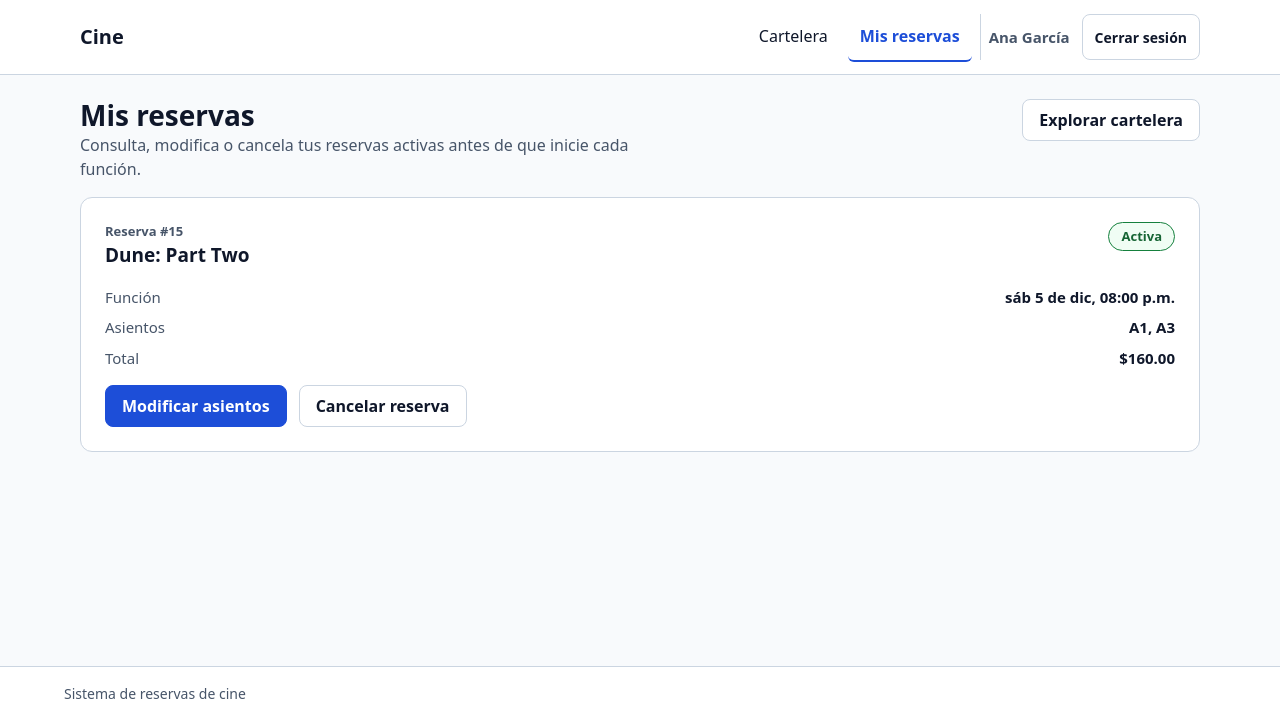
Test case: ReservationsPage (Mis reservas) › allows modifying seats and handles 409 conflict before saving
What coordinates should you click on to do the following:
click the button "Modificar asientos"
I would click on:
 (196, 406)
Its box is 105,385 -> 287,427.
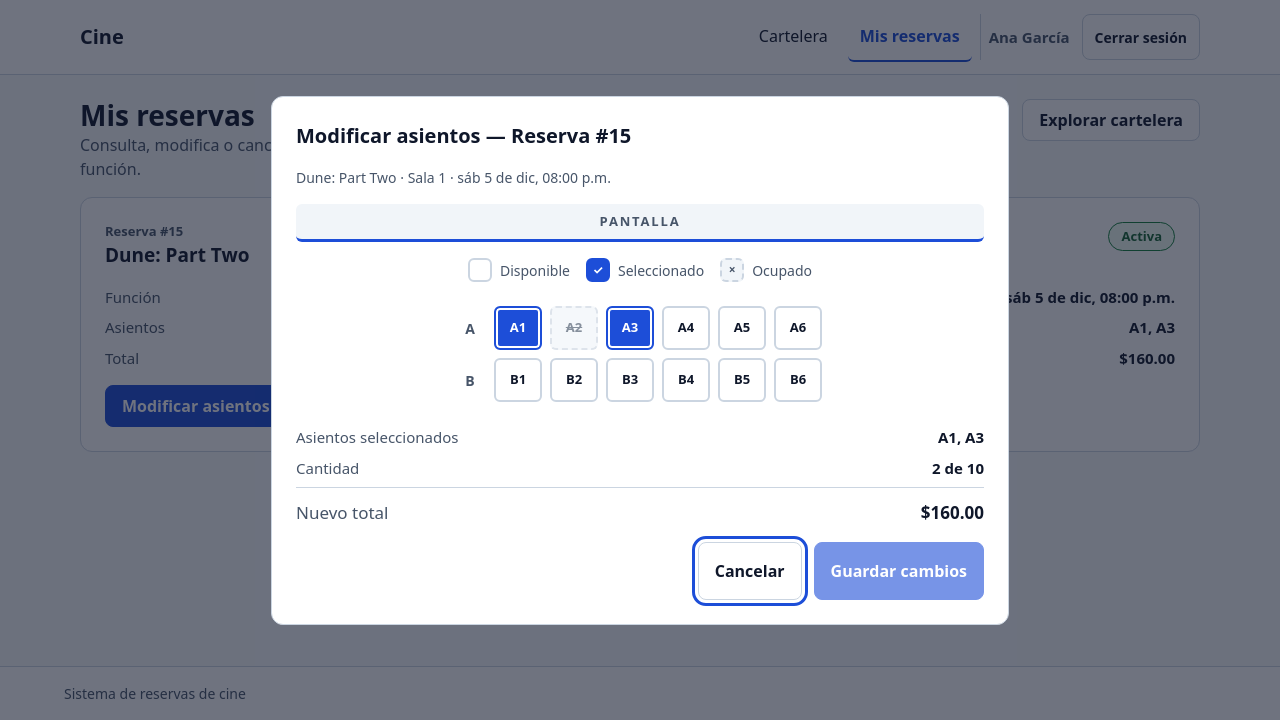
Now the button named "Asiento A1, seleccionado" is enabled
Now the button named "Asiento A2, ocupado" is disabled, box 550,306 -> 598,350
What coordinates should you click on to do the following:
click the button named "Asiento A1, seleccionado"
I would click on:
 (518, 328)
Its box is 494,306 -> 542,350.
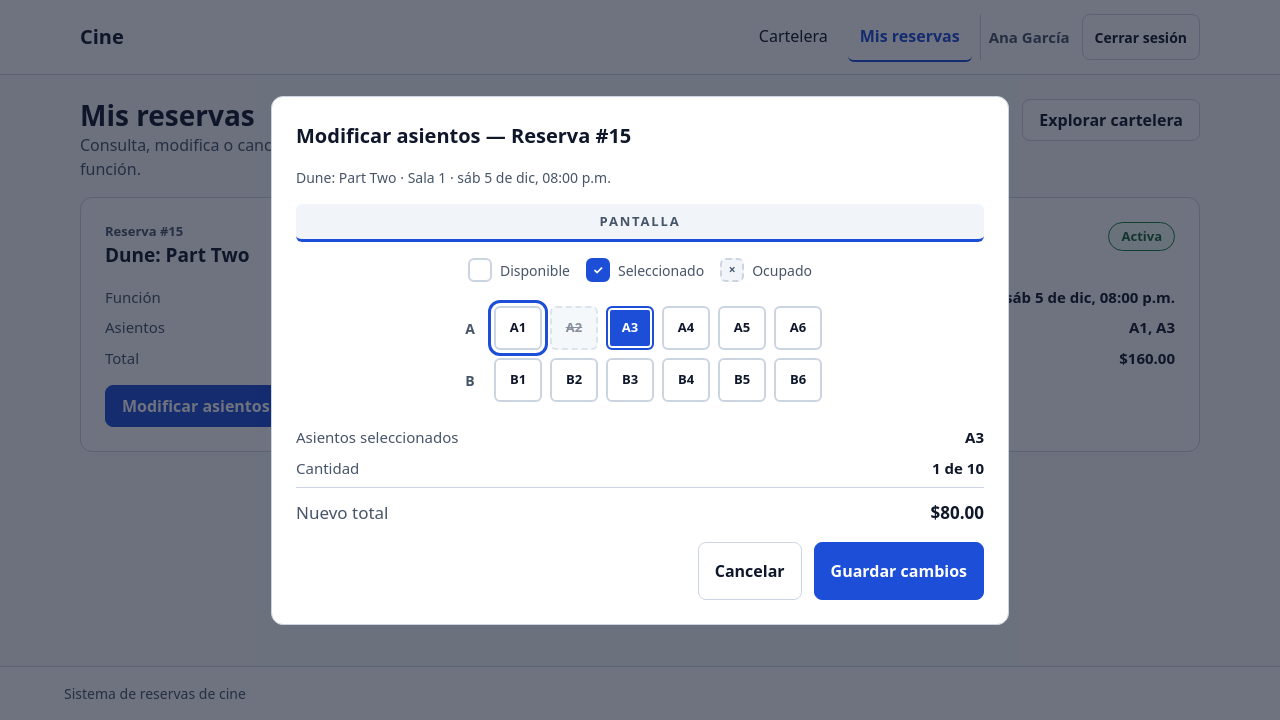
What coordinates should you click on to do the following:
click the button named "Asiento A4, disponible"
I would click on:
 (686, 328)
Its box is 662,306 -> 710,350.
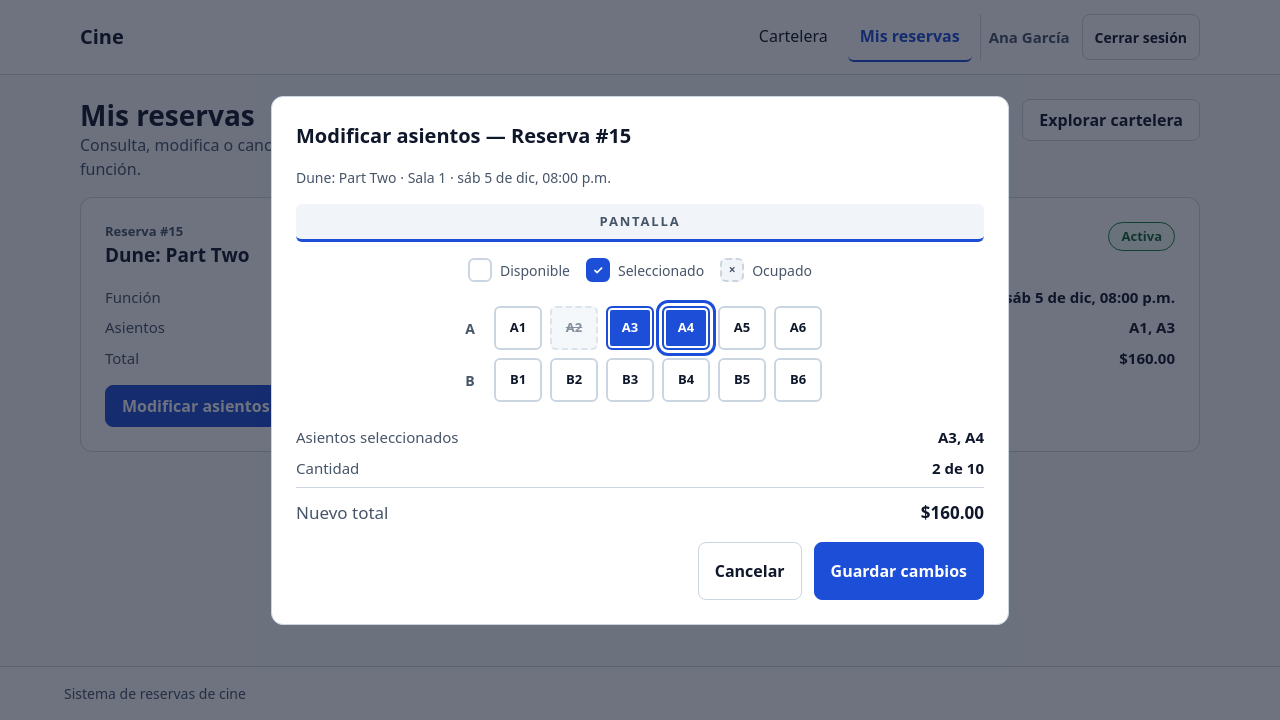
What coordinates should you click on to do the following:
click the button "Guardar cambios"
I would click on:
 (899, 570)
Its box is 814,542 -> 984,600.
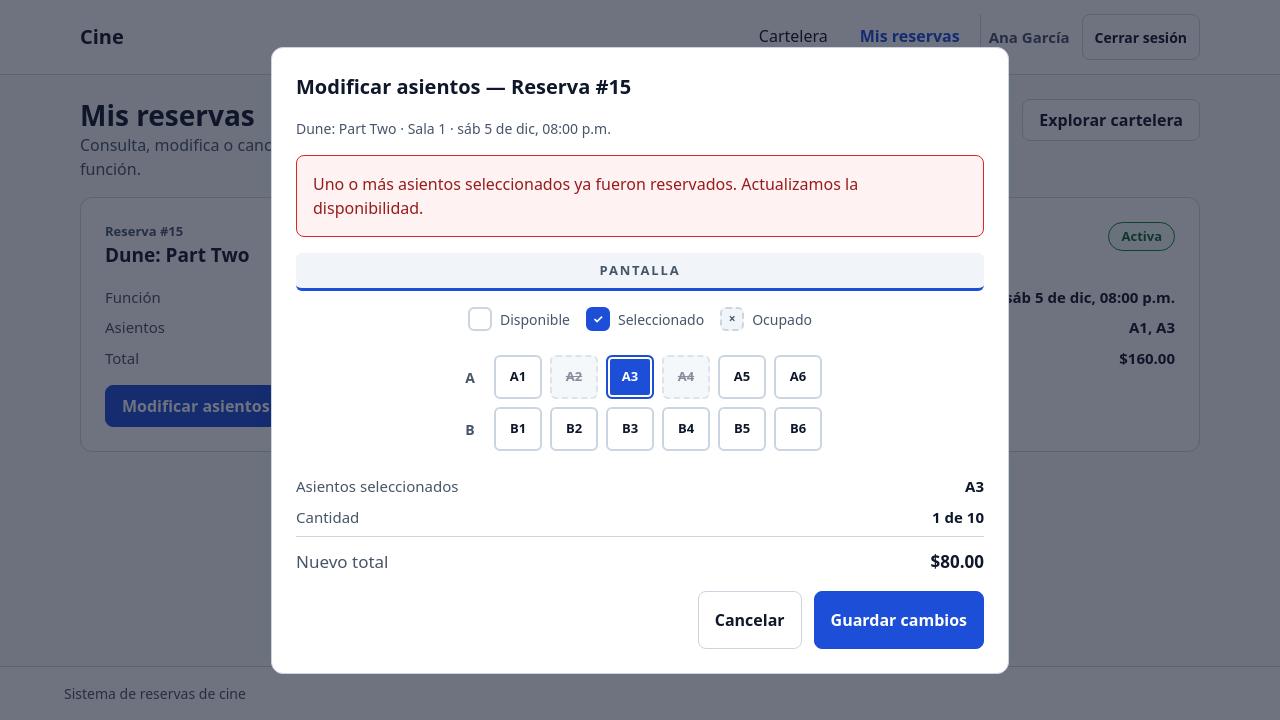
Now the message shows "Uno o más asientos seleccionados ya fueron reservados", box 313,172 -> 858,218
Now the button named "Asiento A4, ocupado" is disabled, box 662,355 -> 710,399
Note: Select A5 and save successfully.
What coordinates should you click on to do the following:
click the button named "Asiento A5, disponible"
I would click on:
 (742, 377)
Its box is 718,355 -> 766,399.
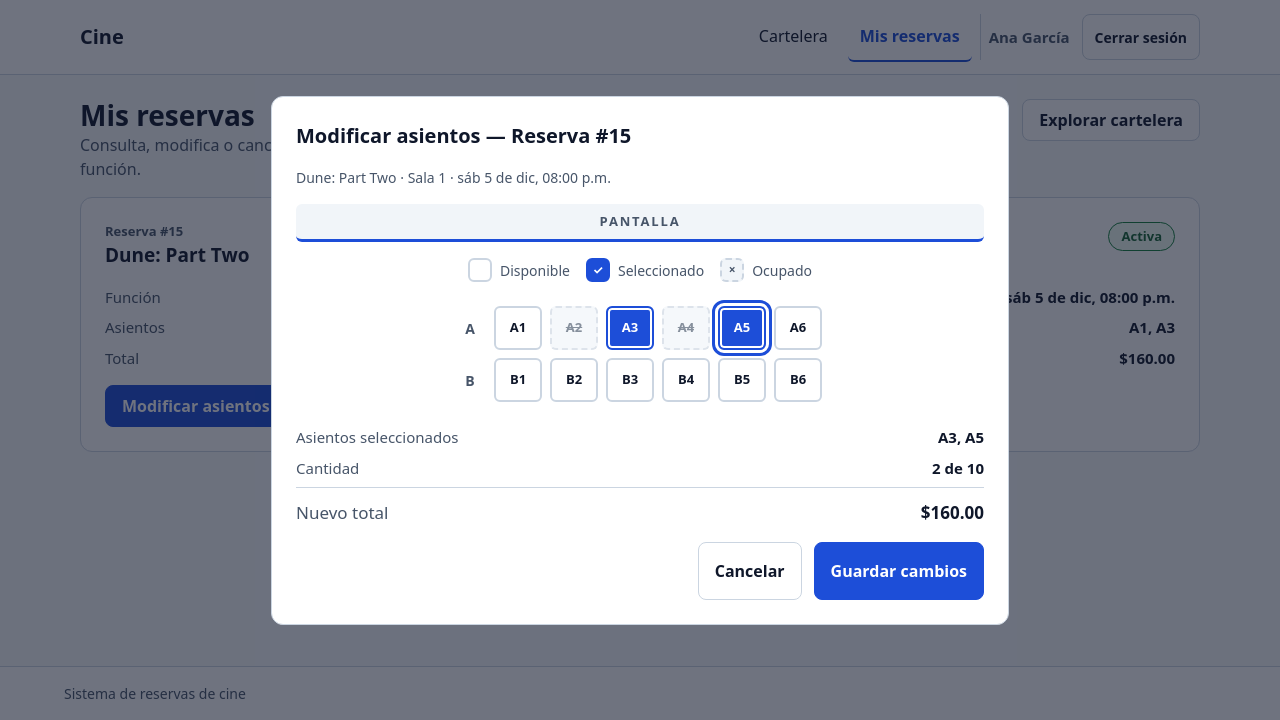
What coordinates should you click on to do the following:
click the button "Guardar cambios"
I would click on:
 (899, 570)
Its box is 814,542 -> 984,600.
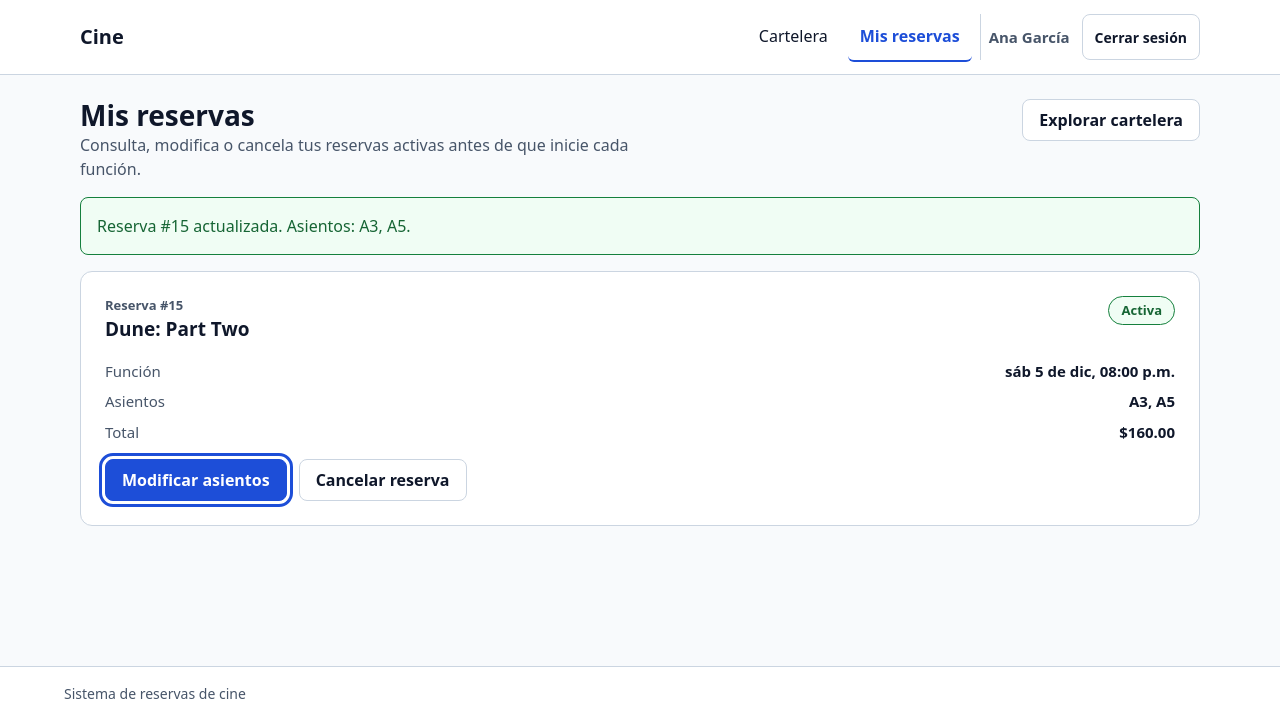
Now the dialog is gone
Now the message shows "Reserva #15 actualizada", box 97,215 -> 411,237
Now the text "A3, A5" is shown, box 1129,390 -> 1175,413
